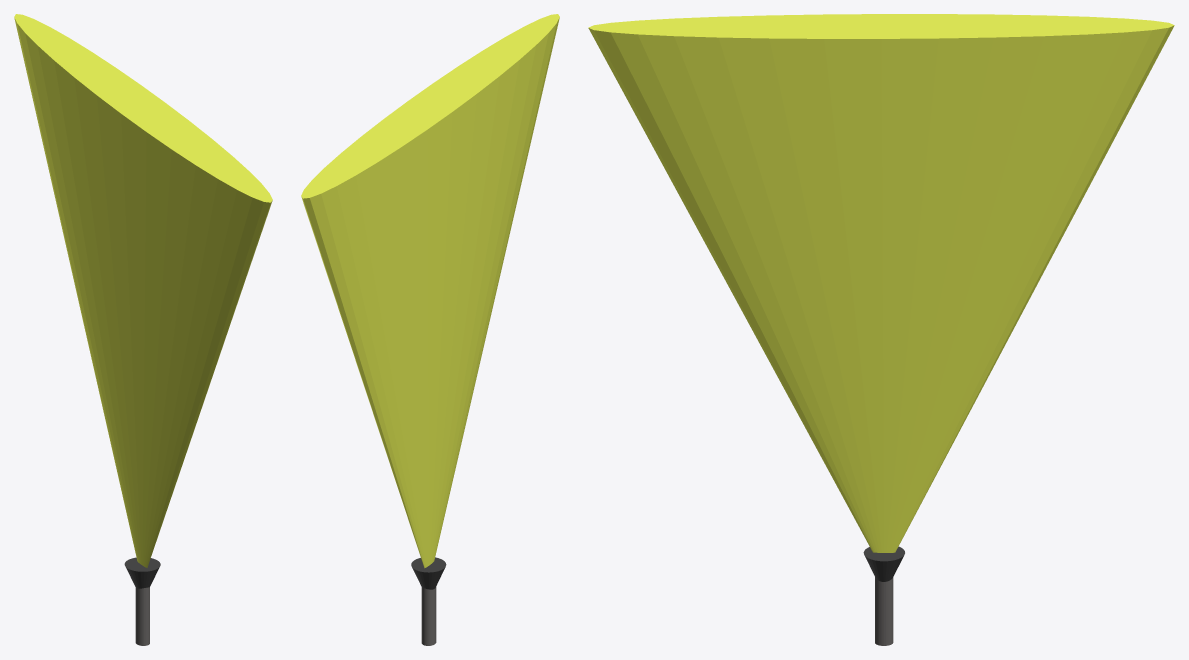
File: latarka.fbx
3 renders of one model, left to right at view 1: azimuth 30°, elevation 25°; view 2: azimuth 150°, elevation 25°; view 3: azimuth 270°, elevation 25°, orthographic. The views are drawn at different scales.
Visible parts, largest first — view 1: Cone.001, Cylinder, Cone; view 2: Cone.001, Cylinder, Cone; view 3: Cone.001, Cylinder, Cone.
Part boxes in pixels (left/top/right/bottom): Cone.001: left=14, top=14, right=272, bottom=567; Cylinder: left=135, top=587, right=149, bottom=645; Cone: left=124, top=557, right=160, bottom=588; Cone.001: left=301, top=14, right=559, bottom=568; Cylinder: left=421, top=587, right=436, bottom=645; Cone: left=411, top=557, right=446, bottom=589; Cone.001: left=588, top=14, right=1174, bottom=552; Cylinder: left=875, top=577, right=893, bottom=645; Cone: left=863, top=546, right=904, bottom=581.
Bounding box in the file's own units: 86.4 × 995 × 857.
